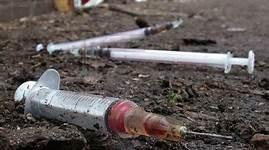Syringe: (11, 66, 235, 142), (36, 16, 269, 72)
